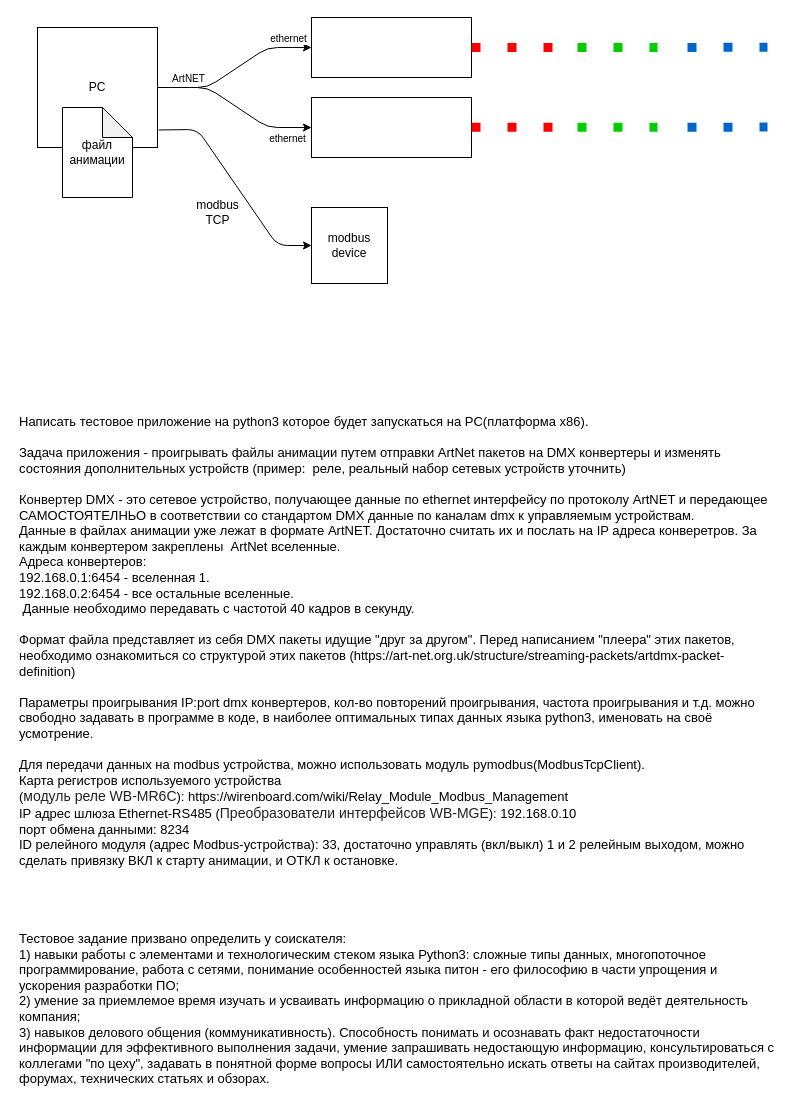
Image size: 794x1105. Some labels were removed from this diagram. The box of each missing label's shape, as (x1, y1, x2, y2) in pixels:
DMX конвертер IP1 192.168.0.101: (310, 16, 472, 78)
DMX конвертер IP2 192.168.0.102: (310, 96, 472, 158)
